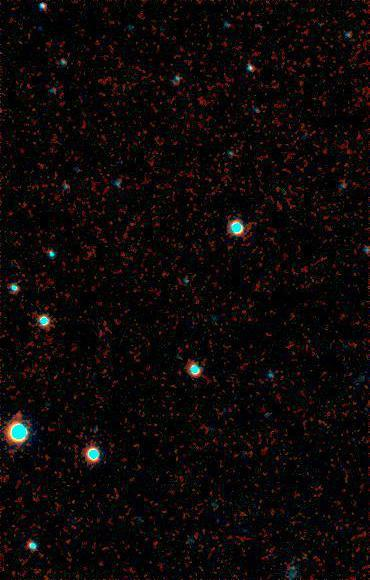star: (1, 402, 31, 432)
